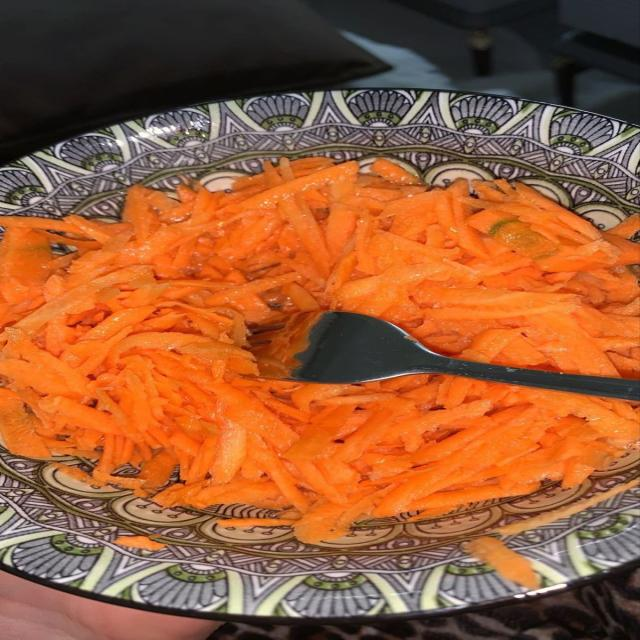carrot: (0, 158, 639, 543), (466, 536, 540, 589), (0, 389, 50, 458), (372, 158, 420, 185), (114, 536, 166, 550), (609, 214, 639, 238), (218, 518, 293, 527)
